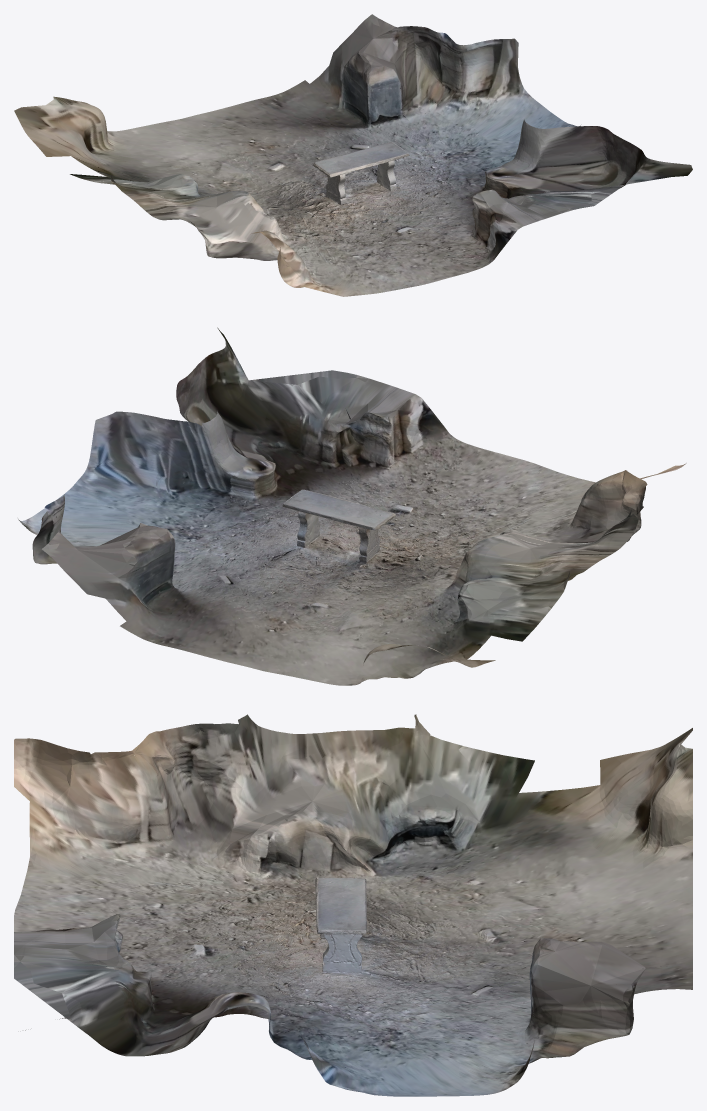
Rendered from bench.glb.
3 renders of one model, top to bottom at view 1: azimuth 30°, elevation 25°; view 2: azimuth 150°, elevation 25°; view 3: azimuth 270°, elevation 25°, orthographic. The views are drawn at different scales.
Size of the model in its own units: 4.03 by 0.5327 by 3.72.
Materials: 1 (1 with a texture image).
